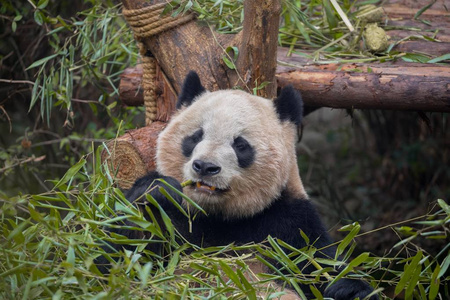panda: (119, 72, 359, 284)
